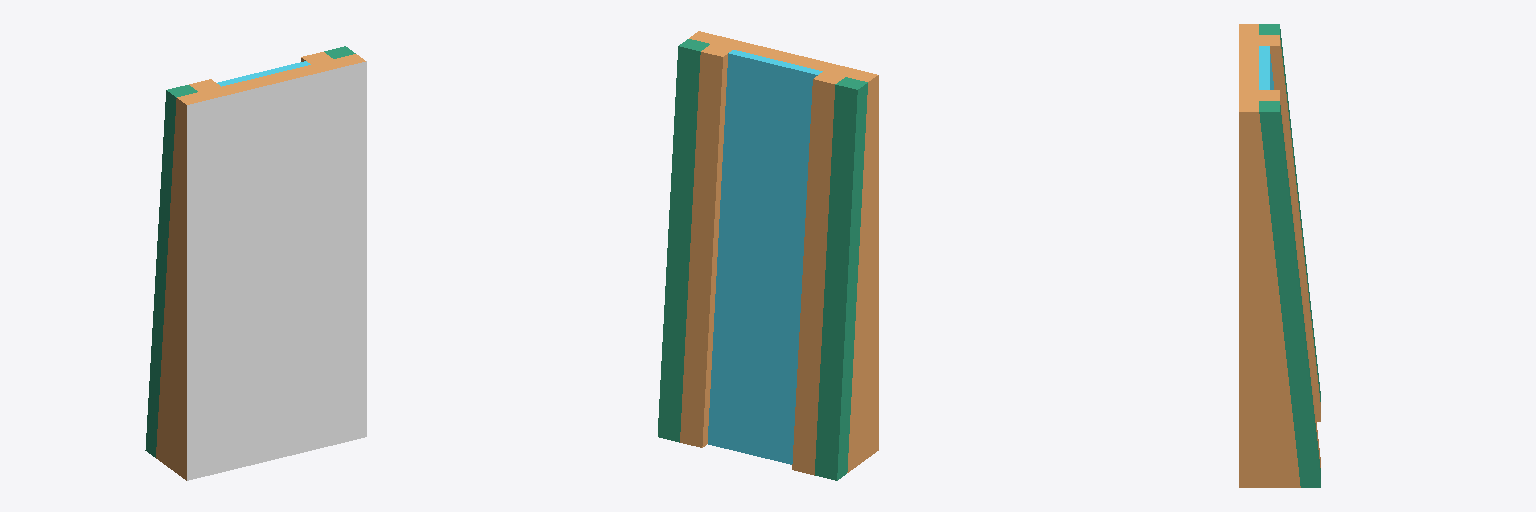
The model's file is tile_riverSlopeLarge.obj.
The picture shows the model from 3 angles: view 1: azimuth 30°, elevation 25°; view 2: azimuth 150°, elevation 25°; view 3: azimuth 270°, elevation 25°; orthographic projection.
Parts seen in each view (by area): view 1: tile_riverSlopeLarge; view 2: tile_riverSlopeLarge; view 3: tile_riverSlopeLarge.
Part boxes in pixels (bbox=[...]): tile_riverSlopeLarge: bbox=[145, 46, 366, 480]; tile_riverSlopeLarge: bbox=[658, 31, 878, 480]; tile_riverSlopeLarge: bbox=[1239, 24, 1320, 487].
Bounding box in the file's own units: 1 × 2 × 0.4.